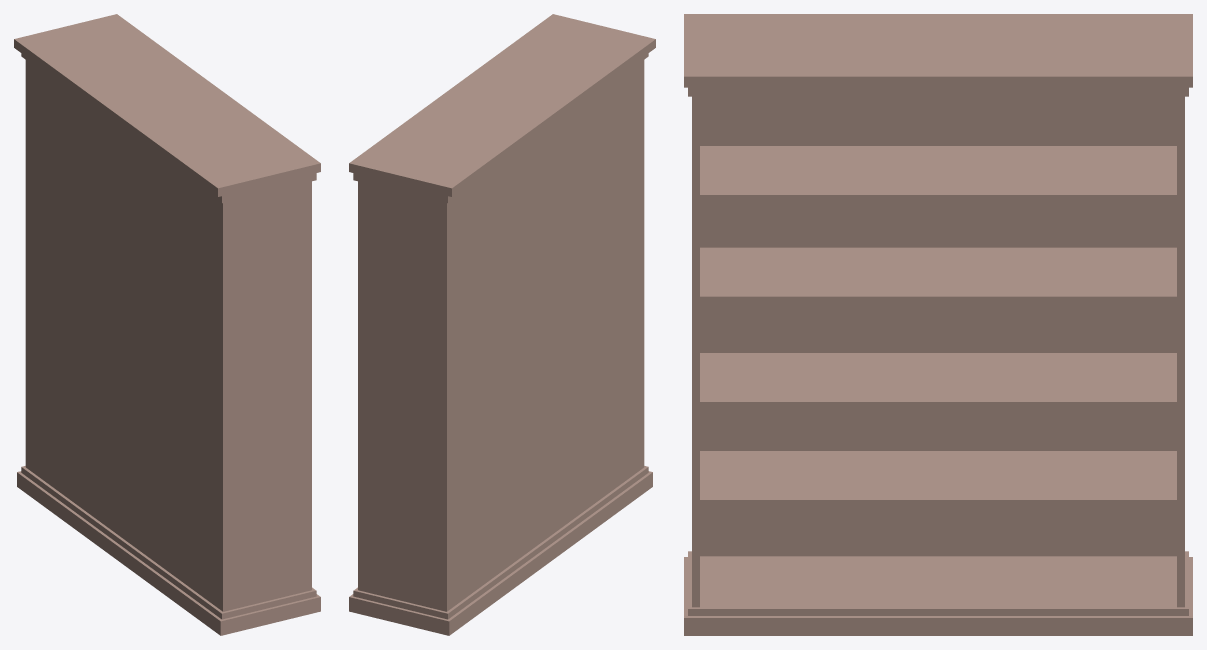
Rendered from Bookshelf.fbx.
3 renders of one model, left to right at view 1: azimuth 30°, elevation 25°; view 2: azimuth 150°, elevation 25°; view 3: azimuth 270°, elevation 25°, orthographic. The views are drawn at different scales.
Visible parts, largest first — view 1: Bookshelf alta sin libros; view 2: Bookshelf alta sin libros; view 3: Bookshelf alta sin libros.
Part boxes in pixels (x1,y1,x2,y2): Bookshelf alta sin libros: (14,14,320,635); Bookshelf alta sin libros: (349,14,655,635); Bookshelf alta sin libros: (684,14,1192,635).
Bounding box in the file's own units: 0.37 × 1.54 × 1.27.
